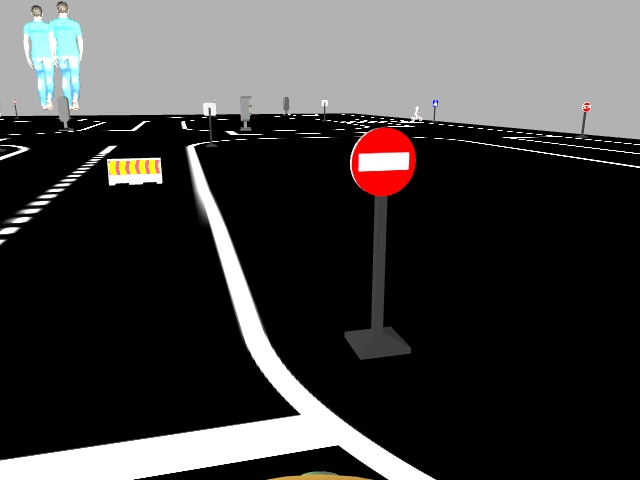ClosedRoadStand: (106, 161, 161, 182)
NoEntry: (350, 126, 419, 195)
